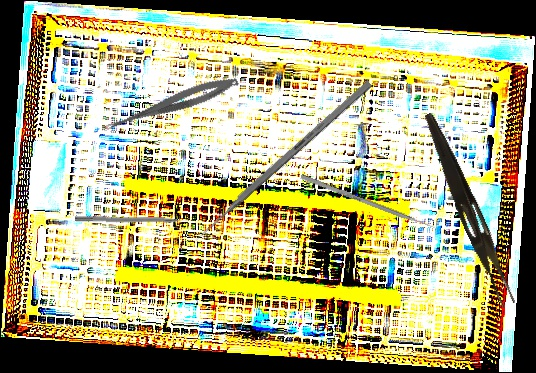Dressing Forceps: (414, 110, 523, 310)
Micro Scissor: (100, 71, 241, 140)
Pusher: (192, 79, 373, 244), (300, 174, 443, 233), (74, 215, 196, 226)
